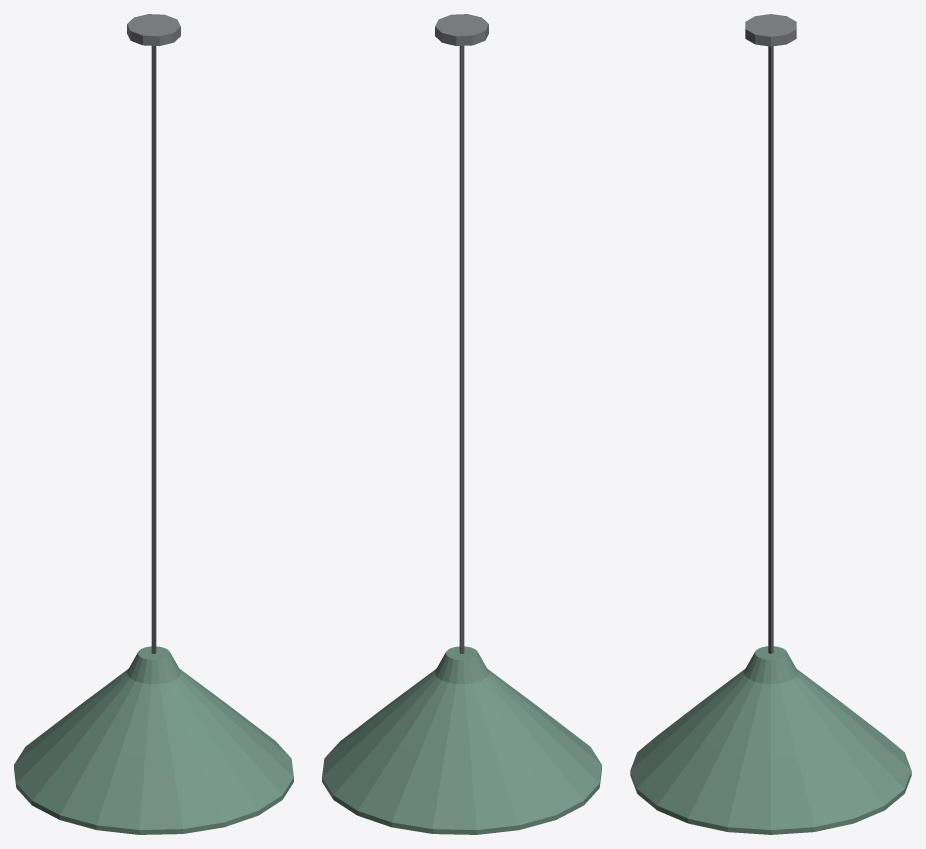
File: pendant_long.glb
The picture shows the model from 3 angles, left to right: view 1: azimuth 30°, elevation 25°; view 2: azimuth 150°, elevation 25°; view 3: azimuth 270°, elevation 25°; orthographic projection.
Visible parts, largest first — view 1: pendant_long_shop_g, pendant_long_dark, pendant_long_steel_d; view 2: pendant_long_shop_g, pendant_long_dark, pendant_long_steel_d; view 3: pendant_long_shop_g, pendant_long_dark, pendant_long_steel_d.
Part boxes in pixels (x1,y1,x2,y2): pendant_long_shop_g: (14,646,293,834); pendant_long_dark: (151,46,156,653); pendant_long_steel_d: (127,14,180,46); pendant_long_shop_g: (322,646,601,834); pendant_long_dark: (459,46,464,653); pendant_long_steel_d: (435,14,488,46); pendant_long_shop_g: (630,646,911,834); pendant_long_dark: (768,46,773,653); pendant_long_steel_d: (745,14,796,46).
Bounding box in the file's own units: 0.52 × 1.54 × 0.52.
